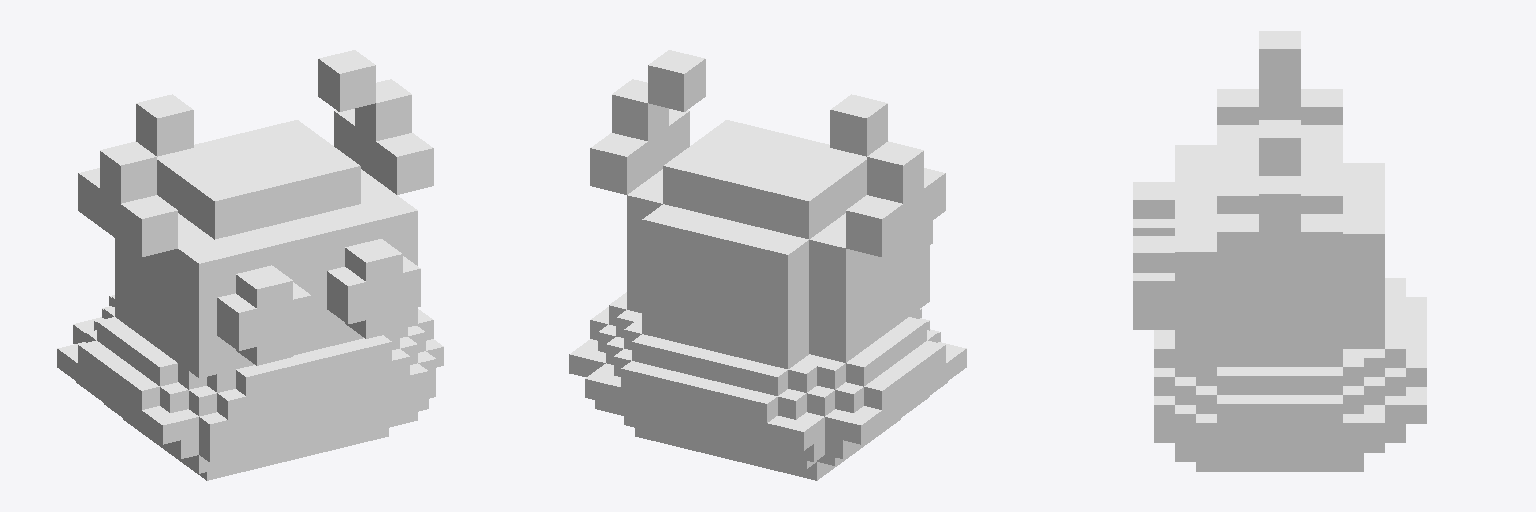
The model's file is PlayerDiablo3.obj.
3 views of the same model, side by side, from view 1: azimuth 30°, elevation 25°; view 2: azimuth 150°, elevation 25°; view 3: azimuth 270°, elevation 25° (orthographic).
Parts seen in each view (by area): view 1: PlayerDiablo3; view 2: PlayerDiablo3; view 3: PlayerDiablo3.
Boxes of the visible parts, <box> form: PlayerDiablo3: <box>57,50,443,480</box>; PlayerDiablo3: <box>569,50,966,480</box>; PlayerDiablo3: <box>1133,31,1426,471</box>.
Bounding box in the file's own units: 1.6 × 1.8 × 1.4.